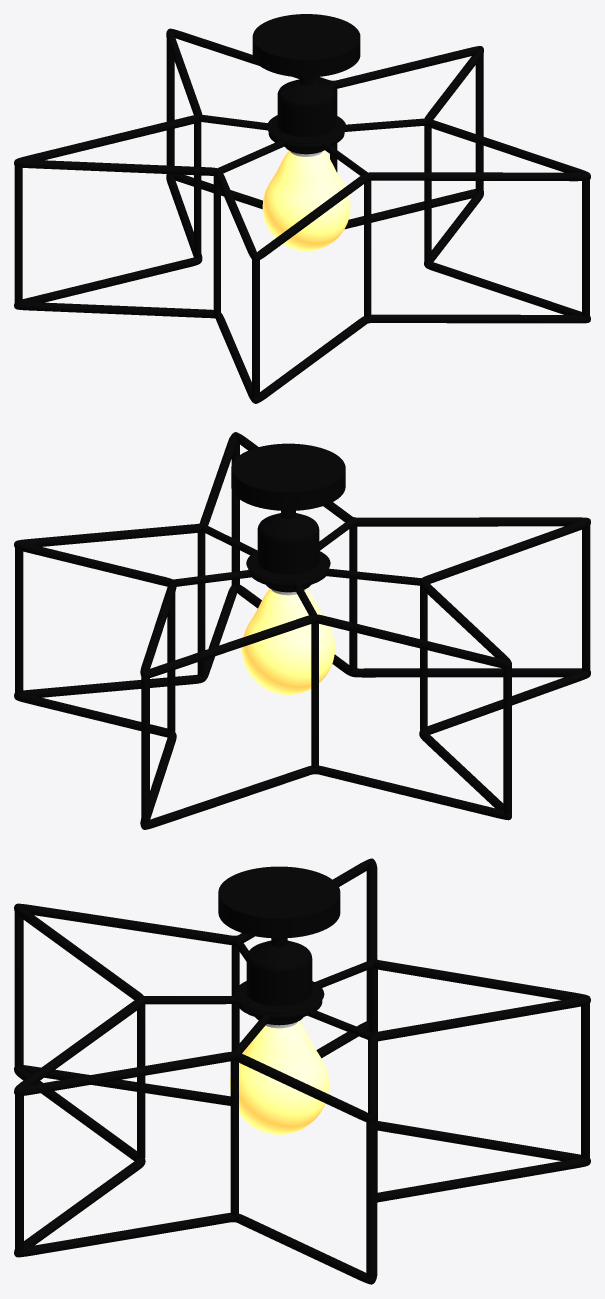
Rendered from star_ceiling_light.glb.
3 views of the same model, one above another, from view 1: azimuth 30°, elevation 25°; view 2: azimuth 150°, elevation 25°; view 3: azimuth 270°, elevation 25° (orthographic). The views are drawn at different scales.
Bounding box in the file's own units: 3.46 × 1.71 × 3.26.
